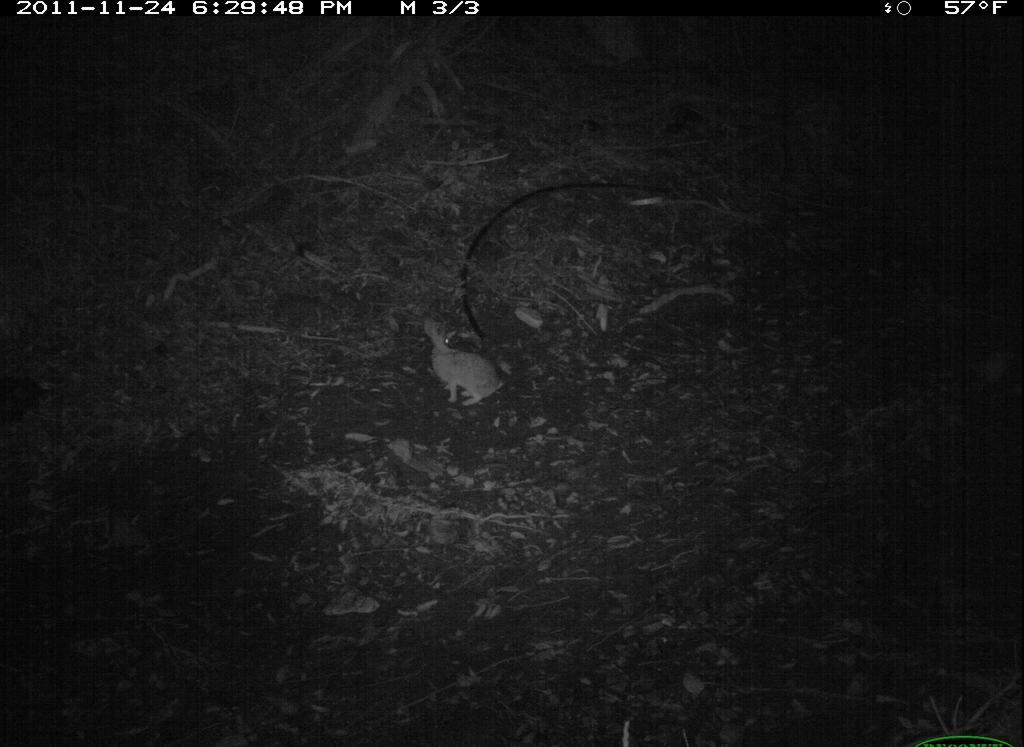rabbit: (413, 314, 515, 418)
